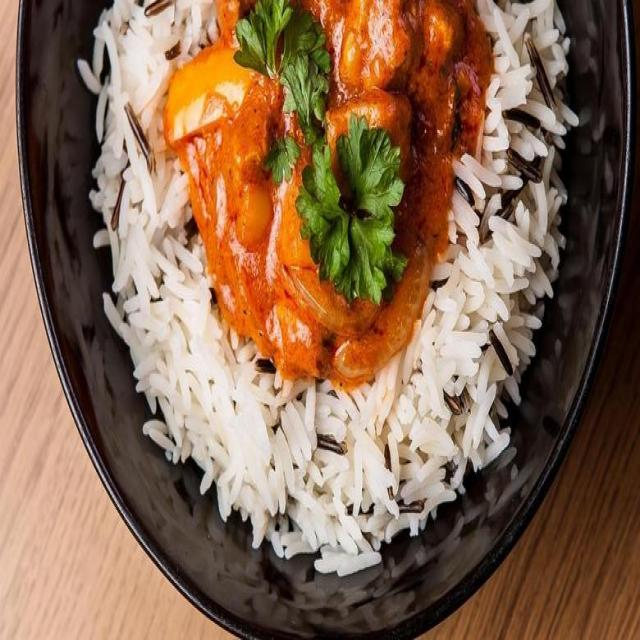chicken: (197, 12, 443, 346)
rice: (92, 7, 571, 544)
